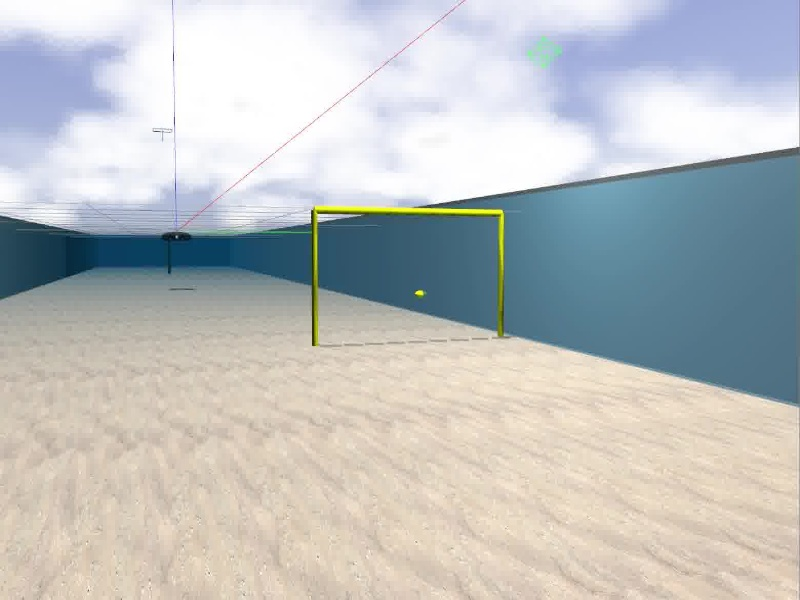gate: (309, 203, 512, 347)
